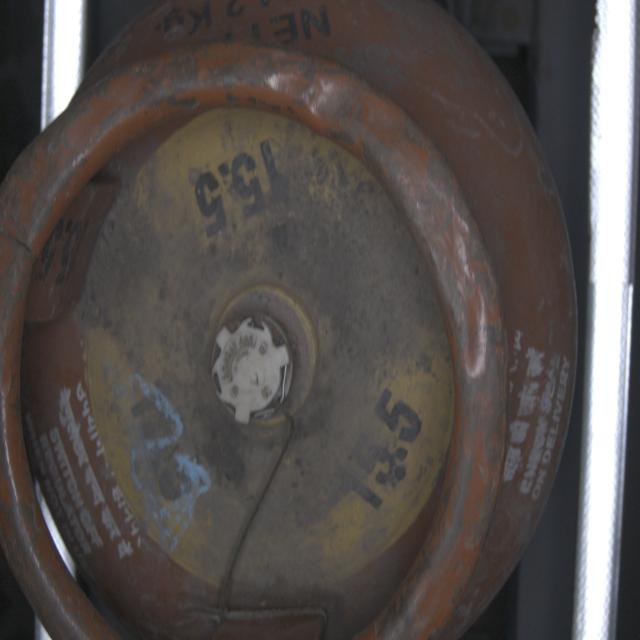Cap: (206, 309, 295, 426)
